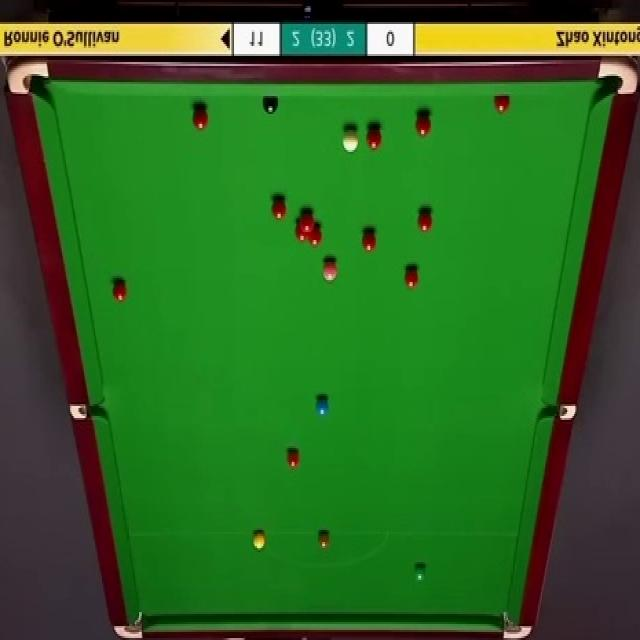black-ball: (262, 95, 279, 114)
blue-ball: (315, 395, 329, 418)
brown-ball: (316, 529, 330, 552)
green-ball: (412, 562, 427, 582)
pink-ball: (323, 258, 338, 286)
red-ball: (403, 262, 420, 291), (111, 277, 128, 304), (414, 111, 431, 137), (192, 106, 209, 131), (366, 125, 382, 151), (417, 210, 432, 235), (361, 228, 376, 253), (286, 448, 302, 470), (272, 197, 286, 221), (308, 222, 322, 246), (494, 94, 510, 114), (301, 210, 314, 230), (295, 222, 308, 242)
white-ball: (341, 124, 359, 158)
yellow-ball: (252, 531, 265, 551)
